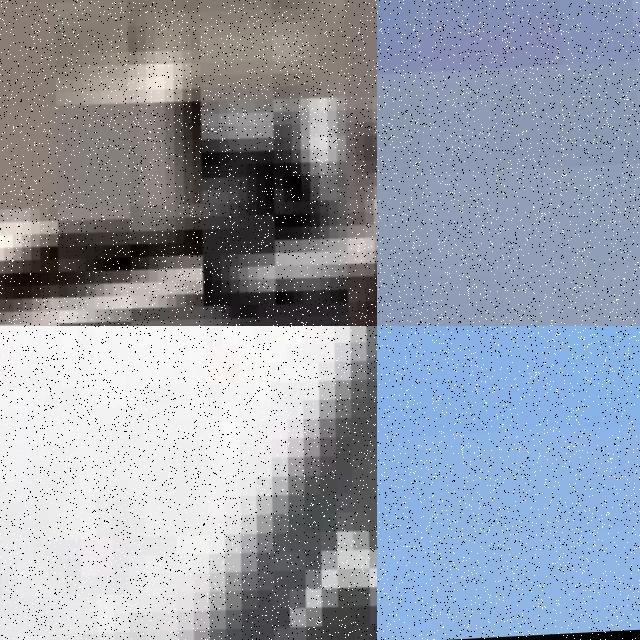0: (0, 0, 377, 326)
drone: (0, 326, 377, 640)
